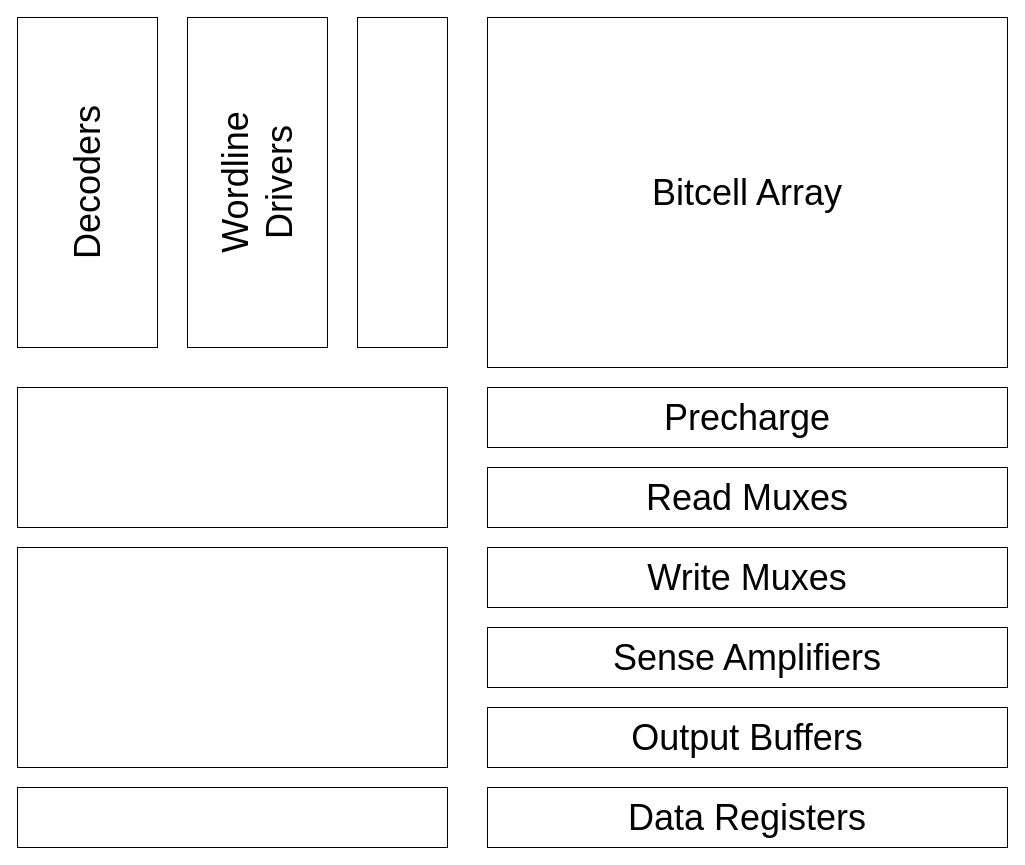
Some shapes in this 1025 by 865 pixel diagram are drawn without their labels. The shapes that lost their labels are listed below. From the top down, each one's centre as x and y in pixels, then its label:
point 402,182: Replica Column
point 232,457: Predecoders
point 232,657: Control Logic
point 232,817: Address/Mask Registers
